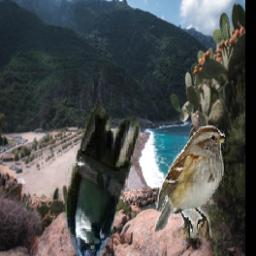Sparrow: (153, 125, 225, 238)
Swallow: (64, 98, 143, 256)
